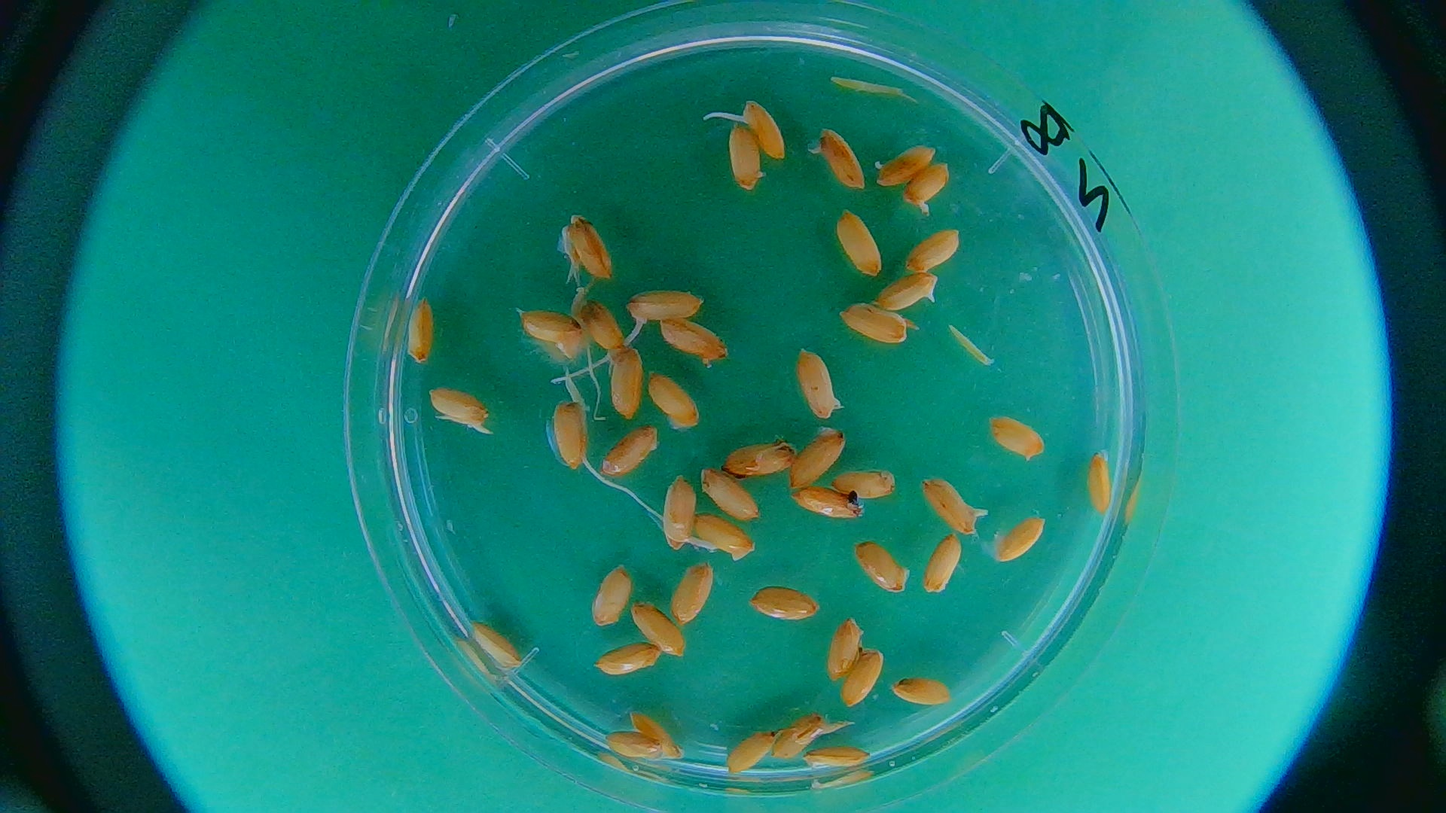no: (785, 425, 850, 490), (807, 123, 869, 190), (627, 595, 688, 658), (557, 217, 615, 282), (796, 349, 847, 420), (698, 466, 761, 522), (833, 208, 884, 277), (850, 539, 912, 595), (646, 371, 703, 431), (693, 510, 756, 564), (602, 428, 663, 481), (657, 314, 727, 359), (591, 560, 635, 628), (837, 304, 908, 346), (588, 638, 666, 676), (985, 412, 1046, 460), (722, 438, 801, 475), (670, 559, 714, 625), (467, 619, 524, 669), (746, 584, 821, 622), (575, 299, 627, 353), (728, 726, 786, 774), (875, 142, 938, 186), (990, 516, 1048, 562), (791, 486, 865, 522), (728, 124, 768, 190), (840, 648, 884, 708), (517, 306, 584, 345), (904, 163, 954, 215), (923, 534, 964, 596), (906, 228, 962, 273), (877, 270, 941, 309), (826, 617, 865, 681), (603, 726, 665, 766), (828, 467, 898, 502), (609, 346, 642, 418), (404, 294, 436, 364), (795, 743, 871, 772), (892, 677, 952, 709), (1088, 449, 1112, 518)
yes: (658, 467, 728, 550), (921, 477, 990, 537), (426, 382, 493, 434), (624, 288, 706, 330), (736, 95, 787, 161), (550, 388, 590, 470), (772, 711, 834, 759)
